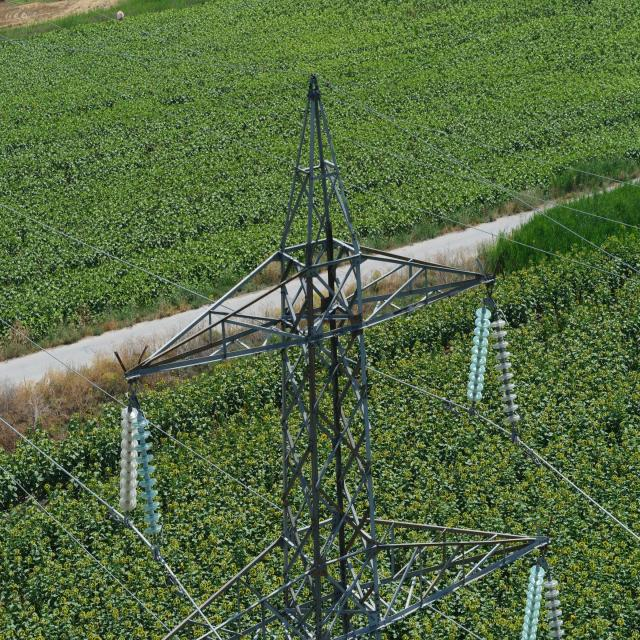direk: (274, 81, 386, 640)
